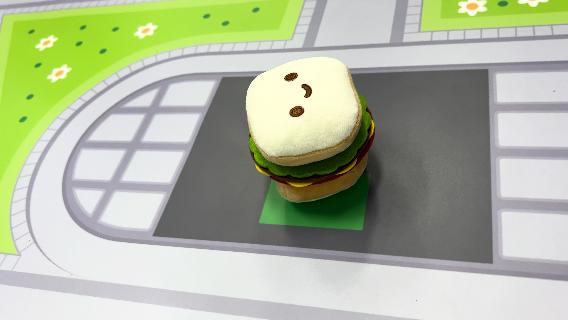sandwich: (243, 54, 377, 204)
